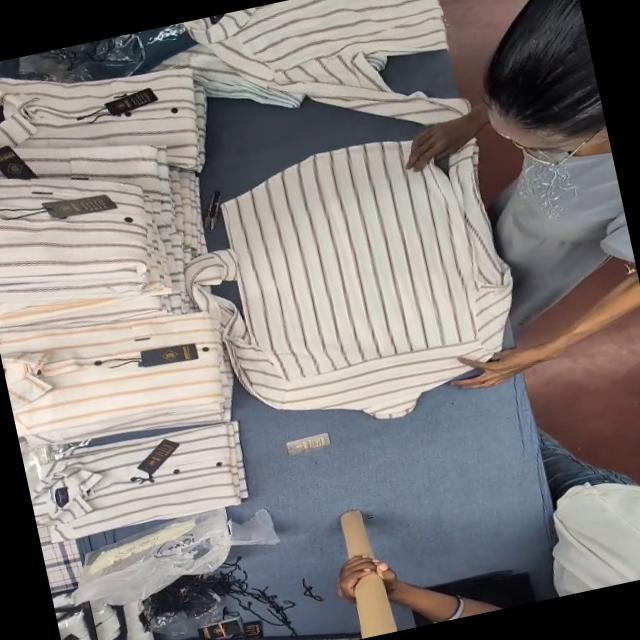new-garment: (193, 142, 511, 417)
